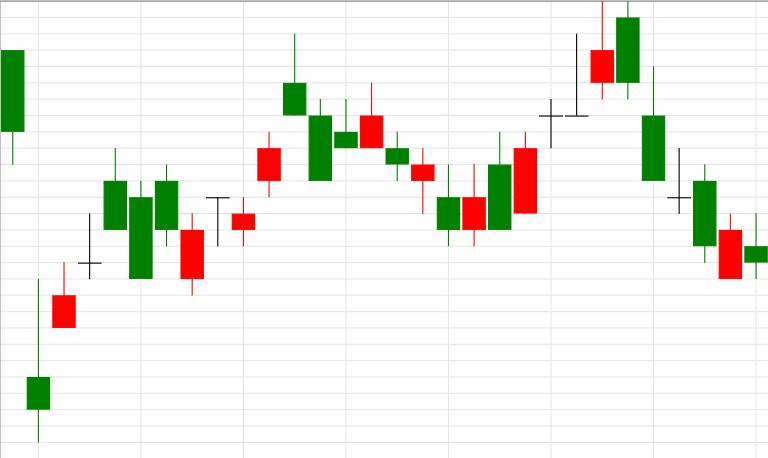bearish_engulfing_fall: (463, 0, 641, 246)
shooting_star_fall: (463, 2, 614, 246), (180, 35, 306, 294)
